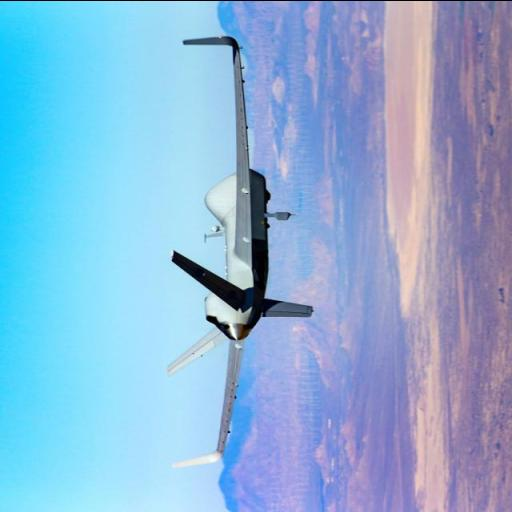uav: (168, 24, 322, 474)
